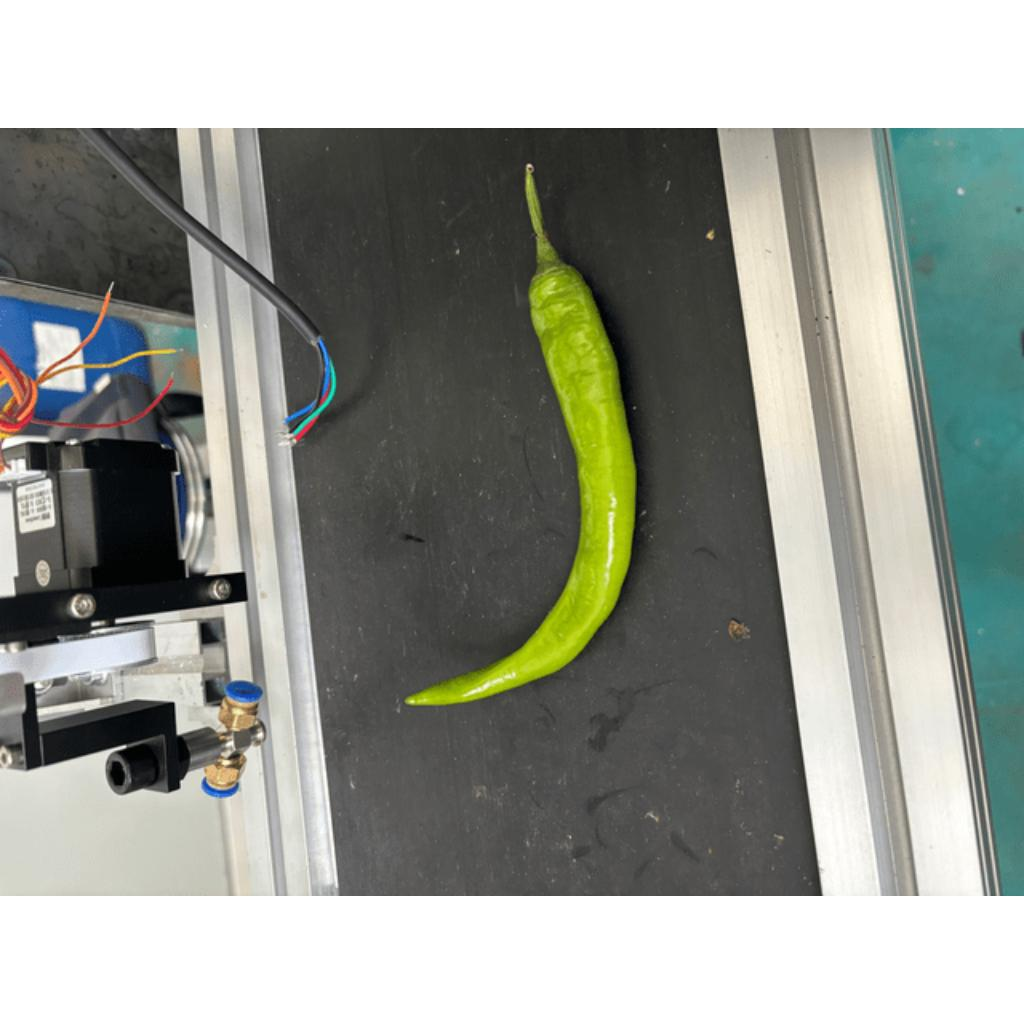chili: (400, 260, 639, 707)
